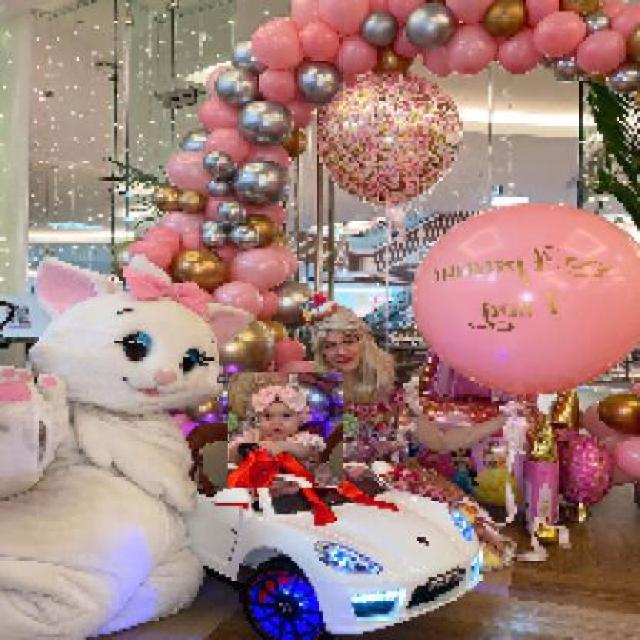child: (226, 373, 343, 490)
